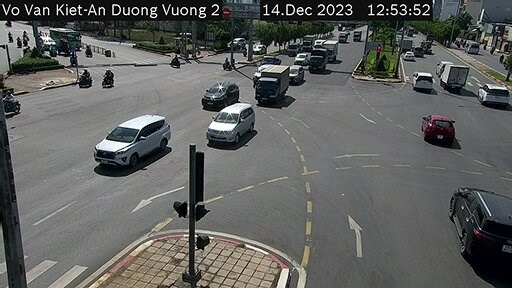car: (444, 177, 510, 271), (97, 110, 164, 172), (212, 101, 251, 146), (421, 108, 461, 139), (203, 74, 233, 107), (477, 81, 509, 104), (414, 69, 432, 90)
truck: (251, 57, 296, 111), (436, 57, 470, 88), (283, 61, 306, 85), (292, 50, 310, 68)
